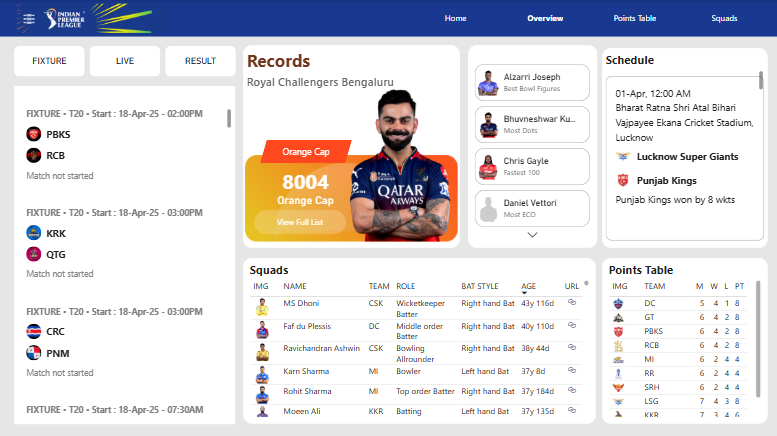

The page's visual inventory and layout, read from the dashboard file:
{"tool":"powerbi","page":{"name":"Overview","canvas":[1280,720],"ordinal":1},"visuals":[{"type":"advancedSlicerVisual","fields":{"Values":["All_Matches_Score.ms"]},"box":[18.1,70.6,374.2,60.7],"z":0},{"type":"htmlContent443BE3AD55E043BF878BED274D3A6855","fields":{"content":["All_Matches_Score.Score_Cards"]},"box":[23,141.1,362.7,554.7],"z":1000},{"type":"shape","box":[0,0,1280,60],"z":2000},{"type":"image","box":[23.2,0,255,59.6],"z":3000},{"type":"pageNavigator","box":[678.9,5,581.2,49.7],"z":4000},{"type":"tableEx","title":"Points Table","fields":{"Values":["Points_Table.logo","Players.Team_SN","Points_Table.M","Points_Table.W","Points_Table.L","Points_Table.PT"]},"box":[987.9,423.4,272.4,272.4],"z":5000},{"type":"tableEx","title":"Squads","fields":{"Values":["Players.PlayerIMG","Players.PlayerName","Players.Team_SN","Players.Type","Players.BattingStyle","Players.Age","Players.PlayerURL"]},"box":[398.8,423.4,579,272.4],"z":6000},{"type":"htmlContent443BE3AD55E043BF878BED274D3A6855","title":"Schedule","fields":{"content":["Schedule.Results_Cards"]},"box":[987.9,78.8,272.4,328.2],"z":7000},{"type":"advancedSlicerVisual","fields":{"Values":["Records.Name"]},"box":[768,73.8,211.7,333.1],"z":8000},{"type":"shape","title":"Records","box":[398.8,73.8,356.1,333.1],"z":9000},{"type":"htmlContent443BE3AD55E043BF878BED274D3A6855","fields":{"content":["_Measures.BG_RECODS_IMG"]},"box":[397,249,361,152.6],"z":10000},{"type":"shape","box":[426.7,229.7,151,37.7],"z":11000},{"type":"htmlContent443BE3AD55E043BF878BED274D3A6855","fields":{"content":["_Measures.Record_IMG"]},"box":[518.6,131.3,295.4,292.1],"z":12000},{"type":"card","fields":{"Values":["Min(Records.Value)"]},"box":[436.5,257.6,129.6,80.4],"z":13000},{"type":"card","fields":{"Values":["Min(Records.Type)"]},"box":[436.5,303,129.6,50],"z":14000},{"type":"actionButton","box":[416,345,151,40],"z":15000}]}

Visuals, with their boxes in screenshot pixels (x1, y1, x2, y2), scaled from the page's 1280x720 canvas onto the 777x436 screenshot:
advancedSlicerVisual - All_Matches_Score.ms: <region>11, 43, 238, 80</region>
htmlContent443BE3AD55E043BF878BED274D3A6855 - All_Matches_Score.Score_Cards: <region>14, 85, 234, 421</region>
shape: <region>0, 0, 776, 36</region>
image: <region>14, 0, 169, 36</region>
pageNavigator: <region>412, 3, 765, 33</region>
"Points Table" tableEx: <region>600, 256, 765, 421</region>
"Squads" tableEx: <region>242, 256, 594, 421</region>
"Schedule" htmlContent443BE3AD55E043BF878BED274D3A6855: <region>600, 48, 765, 246</region>
advancedSlicerVisual - Records.Name: <region>466, 45, 595, 246</region>
"Records" shape: <region>242, 45, 458, 246</region>
htmlContent443BE3AD55E043BF878BED274D3A6855 - _Measures.BG_RECODS_IMG: <region>241, 151, 460, 243</region>
shape: <region>259, 139, 351, 162</region>
htmlContent443BE3AD55E043BF878BED274D3A6855 - _Measures.Record_IMG: <region>315, 80, 494, 256</region>
card - Min(Records.Value): <region>265, 156, 344, 205</region>
card - Min(Records.Type): <region>265, 183, 344, 214</region>
actionButton: <region>253, 209, 344, 233</region>
